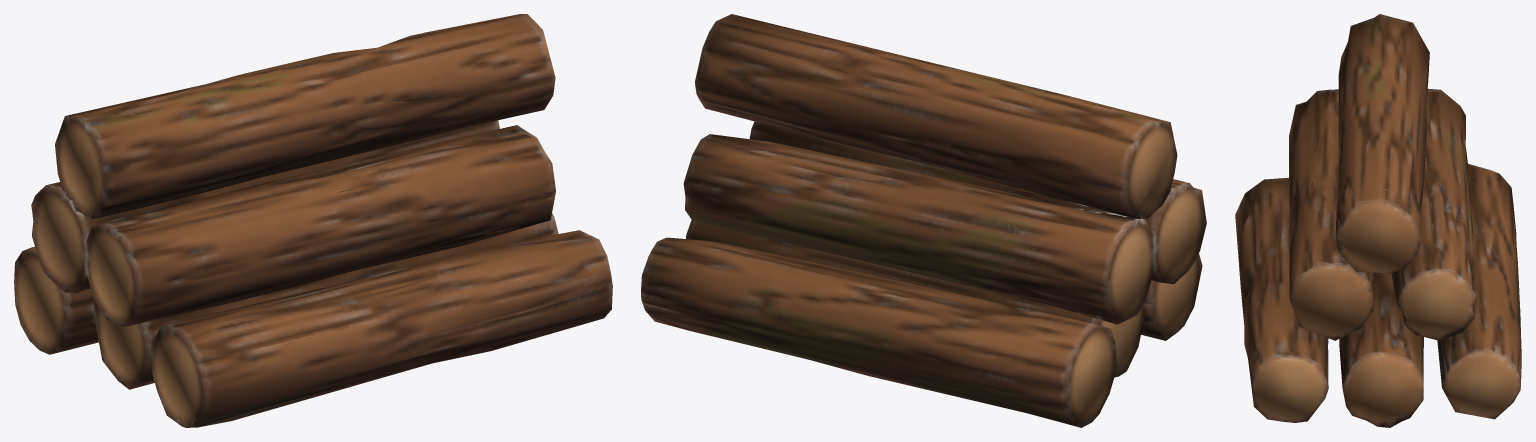
The model's file is woodpile.glb.
The picture shows the model from 3 angles, left to right: view 1: azimuth 30°, elevation 25°; view 2: azimuth 150°, elevation 25°; view 3: azimuth 270°, elevation 25°; orthographic projection. The views are drawn at different scales.
Parts seen in each view (by area): view 1: woodpile; view 2: woodpile; view 3: woodpile.
Part boxes in pixels (x1=…): woodpile: x1=14, y1=14, x2=612, y2=427; woodpile: x1=641, y1=14, x2=1206, y2=427; woodpile: x1=1235, y1=14, x2=1521, y2=427.
Bounding box in the file's own units: 1.26 × 0.7148 × 0.8079.
1 material, 1 textured.
